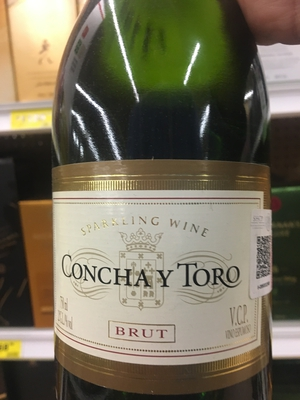brut: (43, 11, 274, 391)
